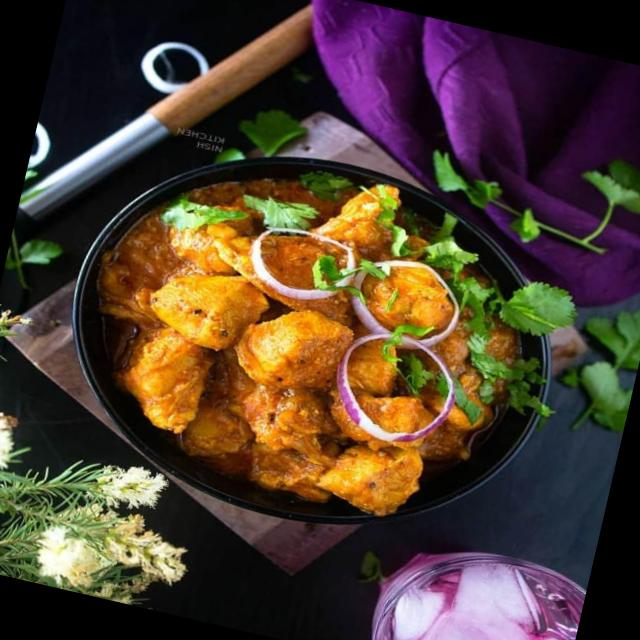chicken: (80, 142, 557, 544)
